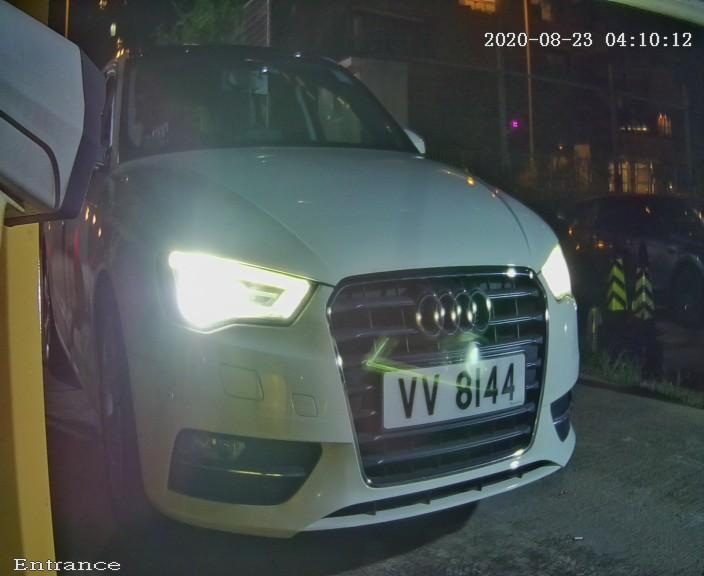Car: (26, 6, 626, 551)
License Plate: (360, 313, 538, 454)
